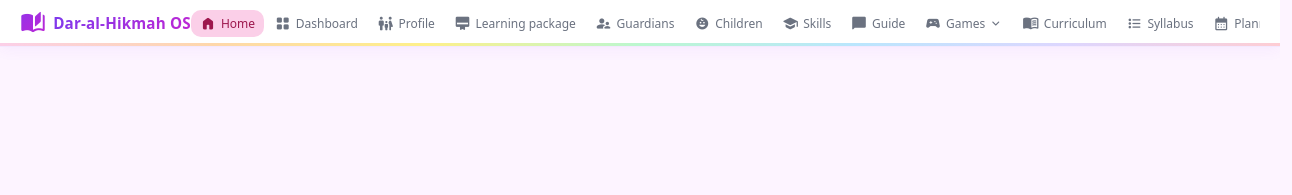
AppNav GAMES menu › shows a Games toggle that reveals Explore + Wikido + Phonics submenu links
This screenshot has width=1292, height=195.
Click the button with class "games-toggle": point(964, 23) [916, 10, 1012, 37]
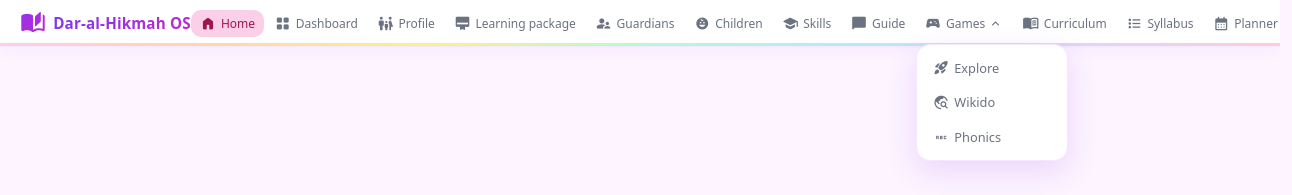
Now the link with class "nav-link" reads "Explore", box [933, 57, 999, 78]
Now the link with class "nav-link" reads "Wikido", box [933, 92, 995, 113]
Now the link with class "nav-link" reads "Phonics", box [933, 127, 1001, 148]
